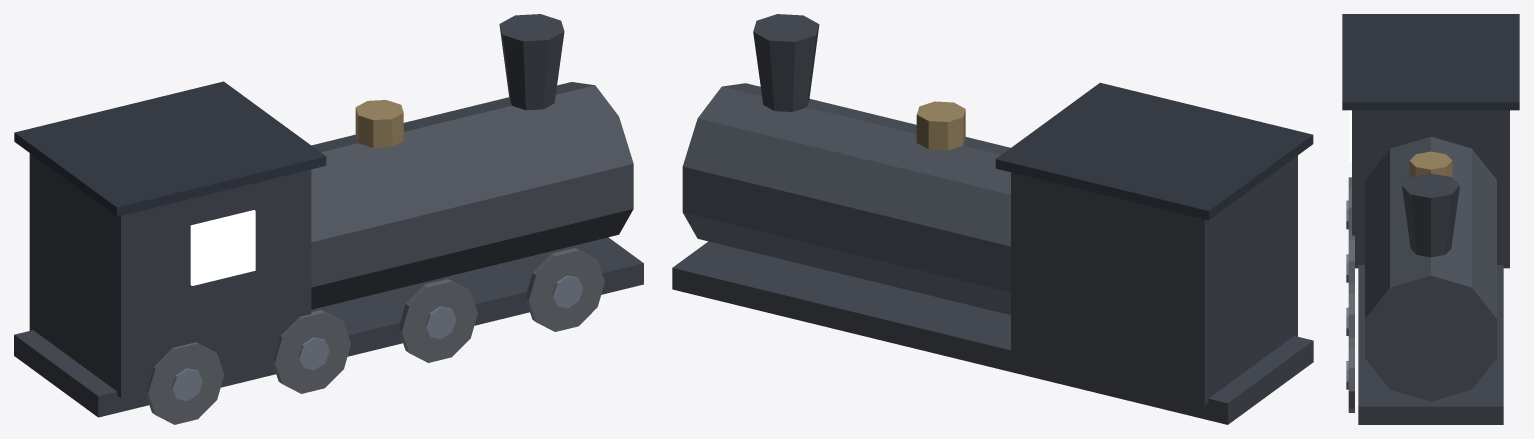
File: locomotora.glb
3 views of the same model, side by side, from view 1: azimuth 30°, elevation 25°; view 2: azimuth 150°, elevation 25°; view 3: azimuth 270°, elevation 25° (orthographic). The views are drawn at different scales.
Visible parts, largest first — view 1: Locomotora; view 2: Locomotora; view 3: Locomotora.
Part boxes in pixels (<box>): Locomotora: <box>14,14,643,424</box>; Locomotora: <box>672,14,1313,424</box>; Locomotora: <box>1342,14,1519,424</box>.
Bounding box in the file's own units: 8.6 × 3.97 × 2.8.
